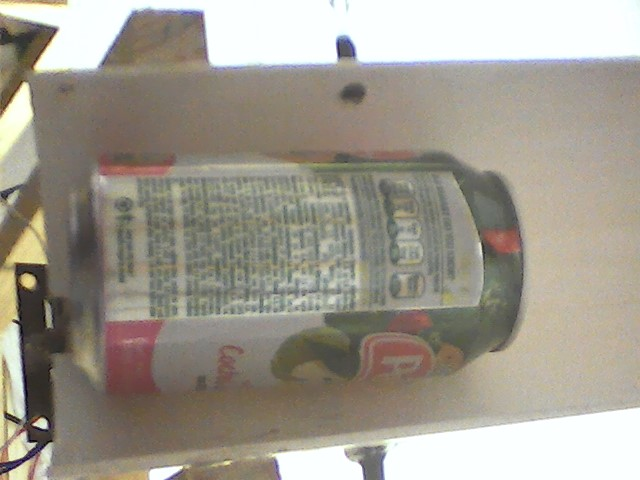lata: (62, 141, 536, 397)
